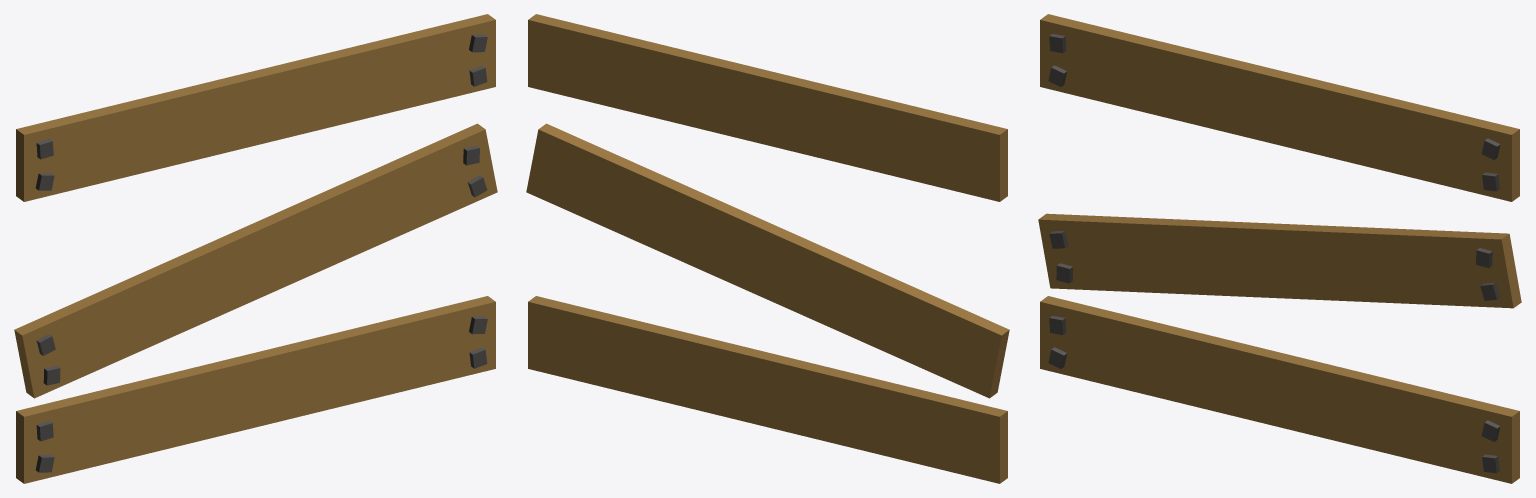
The model's file is AI_Env_Planks.fbx.
3 views of the same model, side by side, from view 1: azimuth 30°, elevation 25°; view 2: azimuth 150°, elevation 25°; view 3: azimuth 330°, elevation 25° (orthographic).
Visible parts, largest first — view 1: AI_Env_Planks; view 2: AI_Env_Planks; view 3: AI_Env_Planks.
Part boxes in pixels (<box>): AI_Env_Planks: <box>14,14,497,483</box>; AI_Env_Planks: <box>526,14,1009,483</box>; AI_Env_Planks: <box>1038,14,1521,483</box>.
Bounding box in the file's own units: 3.32 × 2.33 × 0.137.
